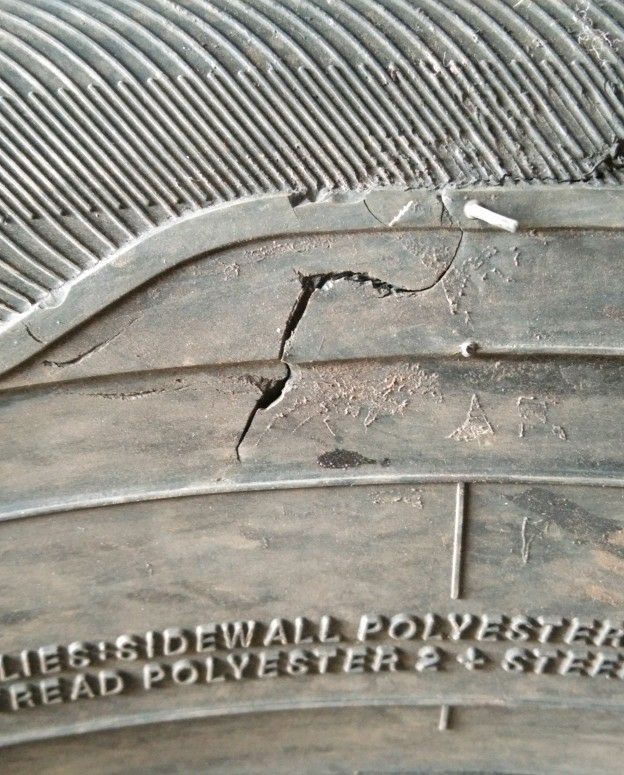cut: (233, 231, 468, 463)
